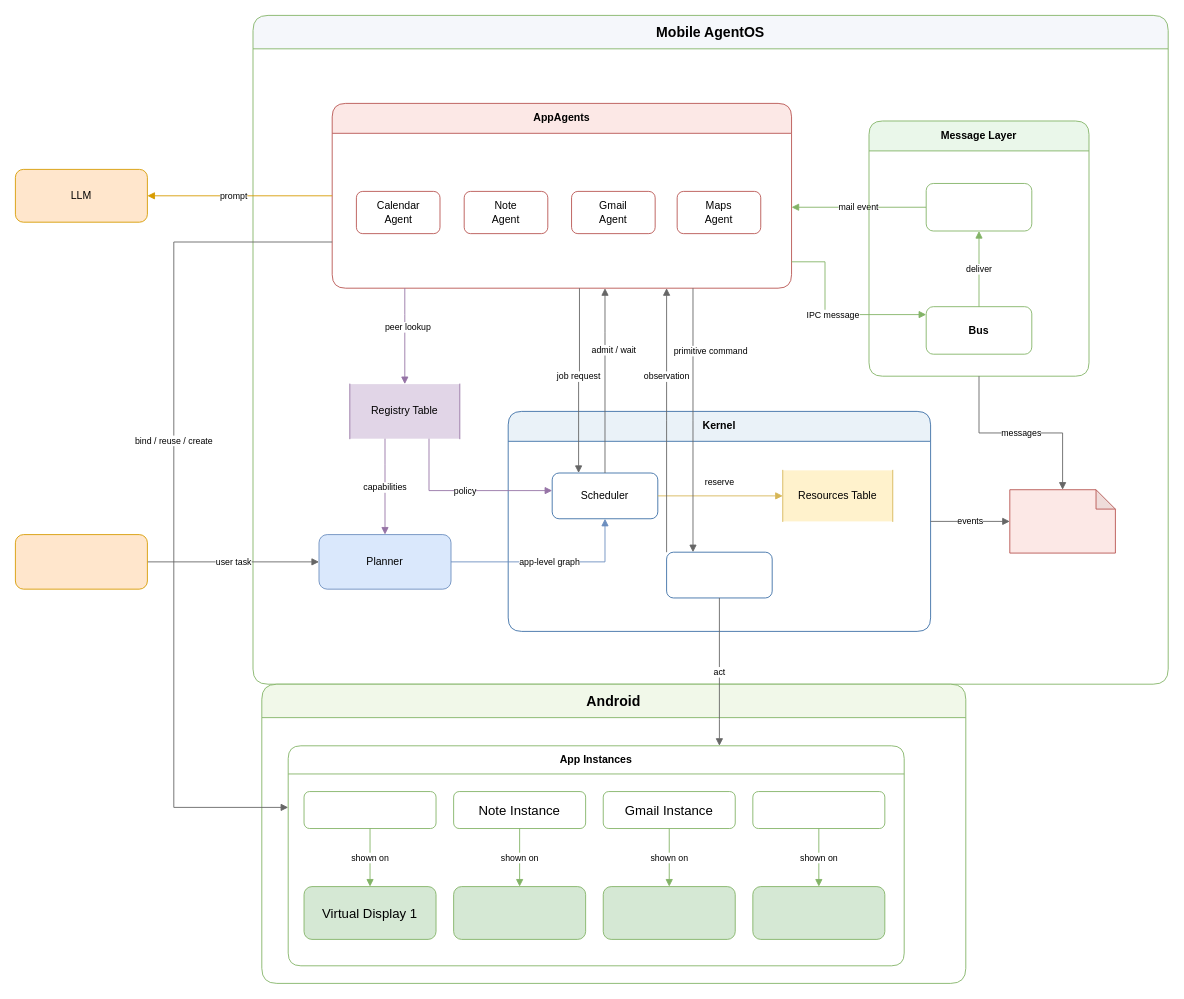
Some shapes in this 1184 by 999 pixel diagram are drawn without their labels. Here are the shapes that lost their labels. From the top down, the centre of each, then its label:
At (x=978, y=207): "Mailbox".
At (x=1062, y=521): "Log".
At (x=81, y=561): "User".
At (x=719, y=574): "Service".
At (x=369, y=810): "Calendar Instance".
At (x=818, y=810): "Maps Instance".
At (x=519, y=912): "Virtual Display 2".
At (x=668, y=912): "Virtual Display 3".
At (x=818, y=912): "Virtual Display 4".
